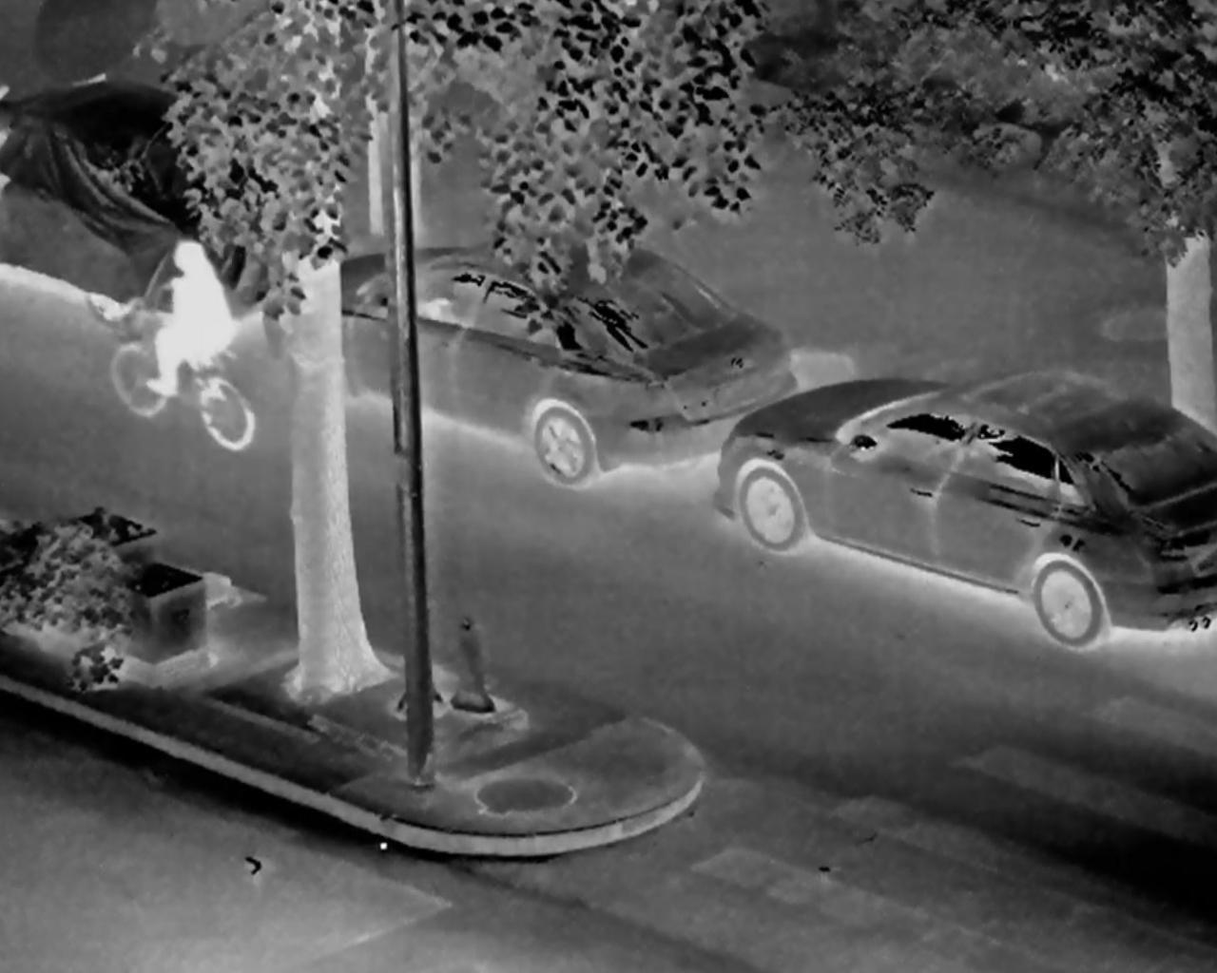person: (133, 242, 240, 397)
